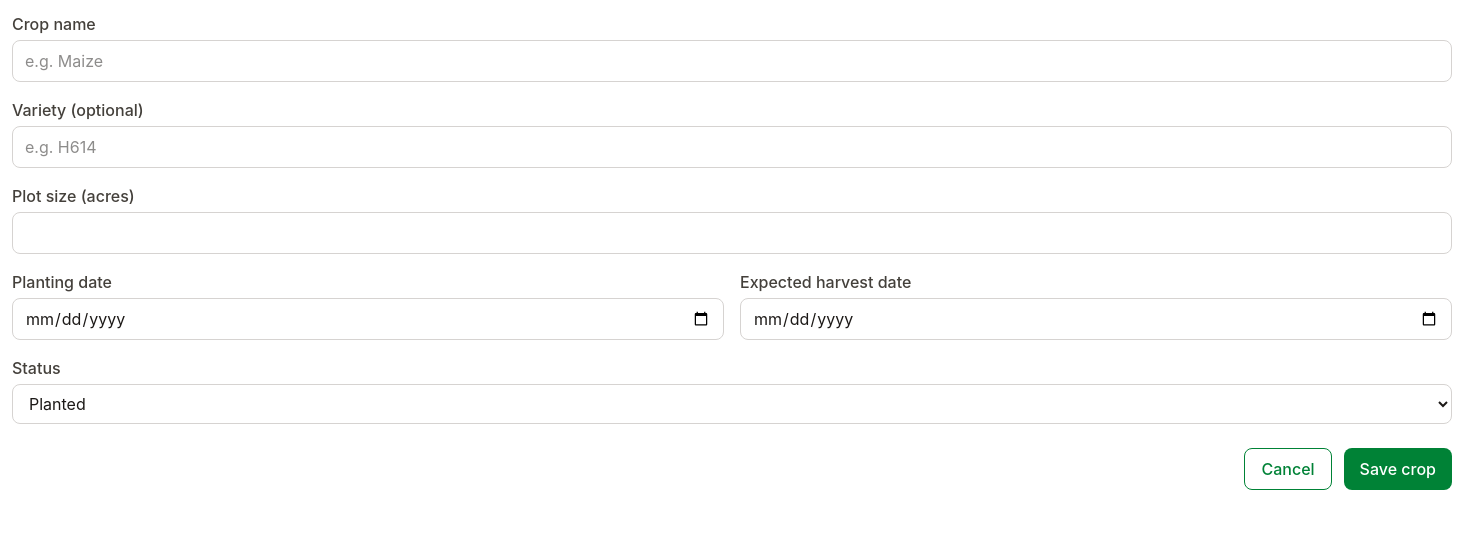
Test: CropForm › shows errors for a plot size of 0 and a harvest date before planting
Type "Maize" into the field labelled "Crop name". click: (732, 61)
box: [12, 40, 1452, 82]
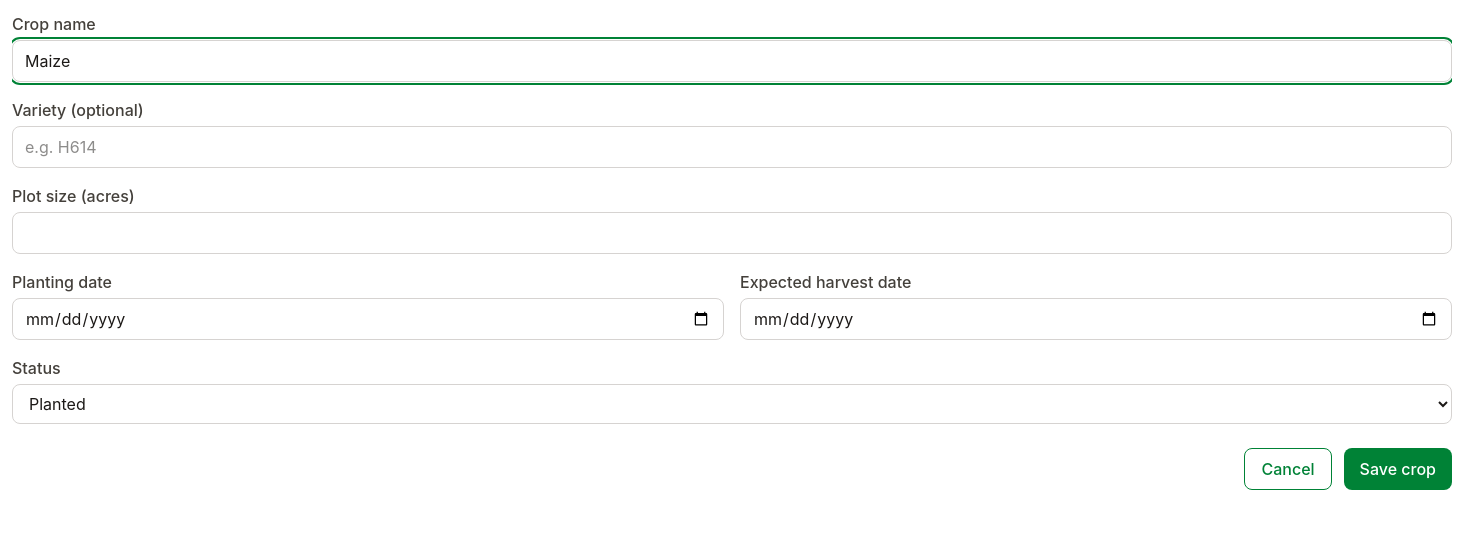
Type "0" into the number field labelled "Plot size (acres)". click: (732, 233)
box: [12, 212, 1452, 254]
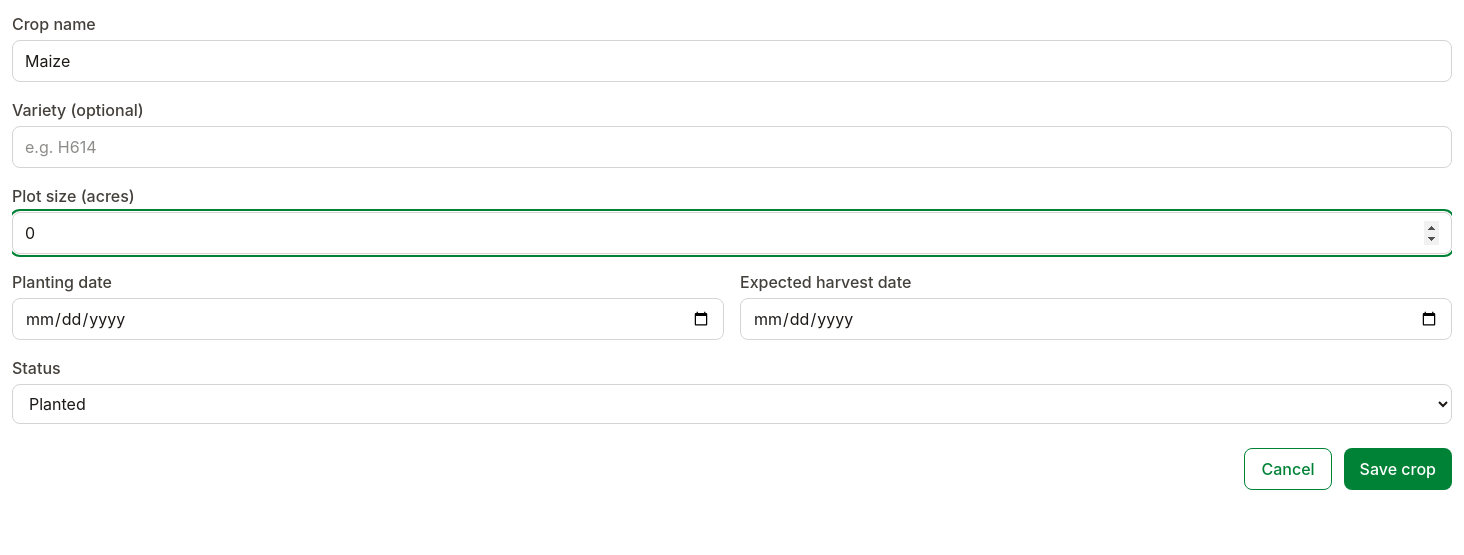
Type "2026-03-01" into the date field labelled "Planting date". click: (368, 319)
box: [12, 298, 724, 340]
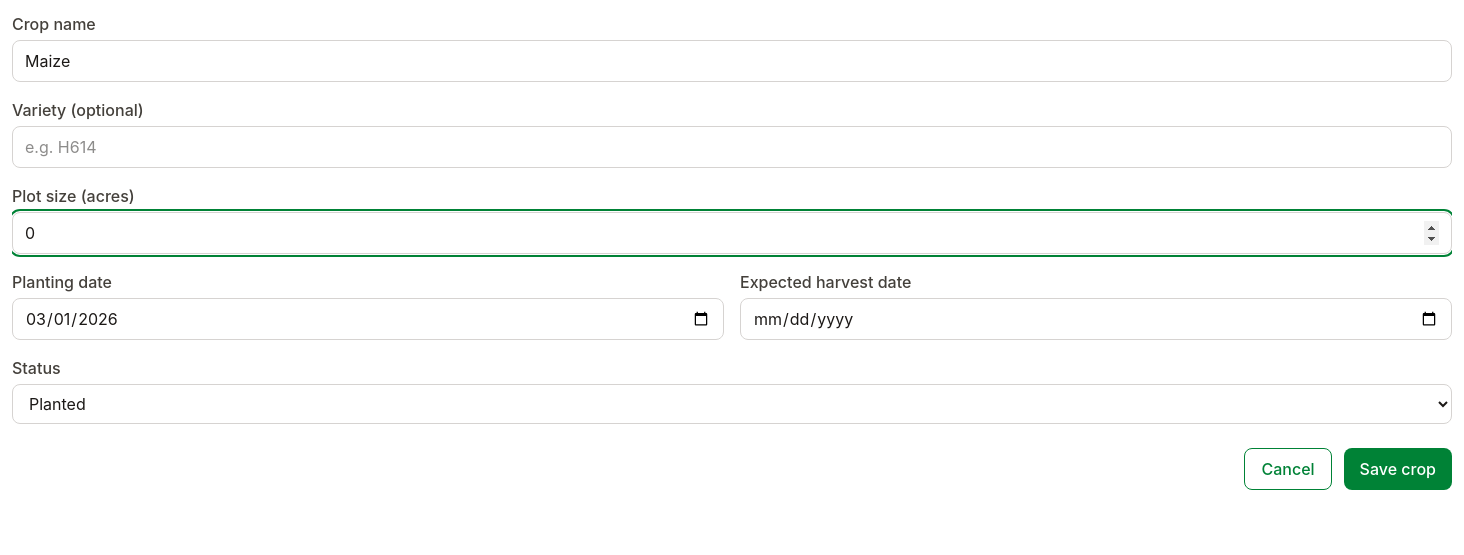
Type "2026-02-01" into the date field labelled "Expected harvest date". click: (1096, 319)
box: [740, 298, 1452, 340]
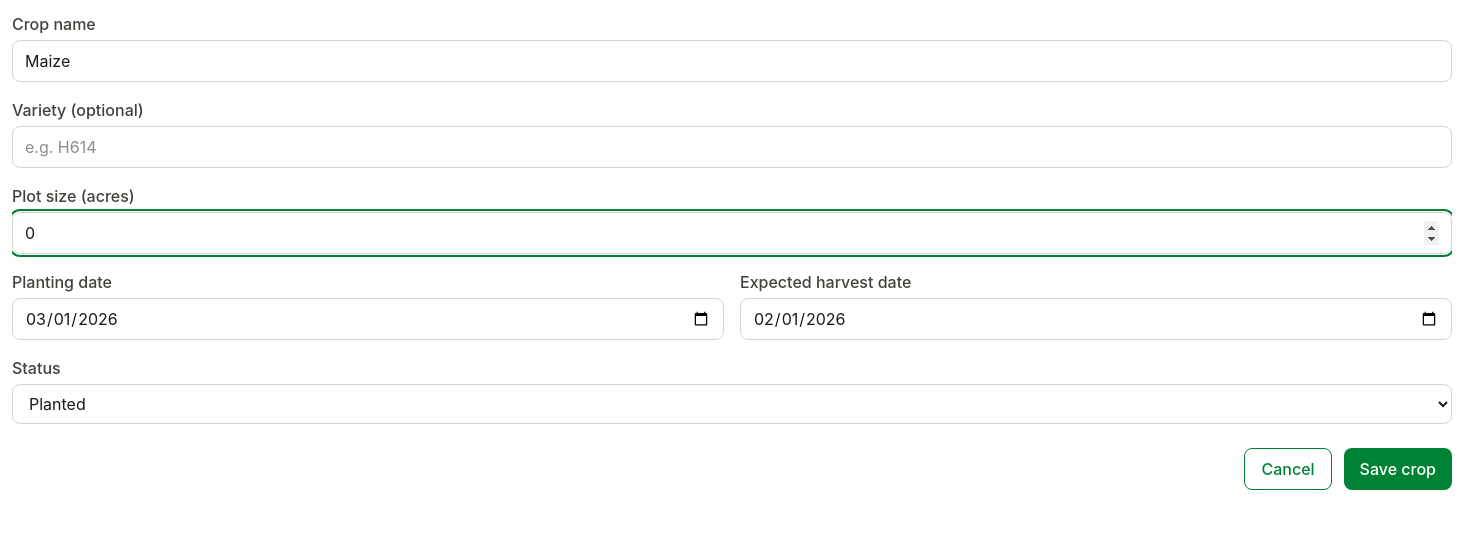
Click the button "Save crop". click: click(1398, 469)
box: [1344, 448, 1452, 490]
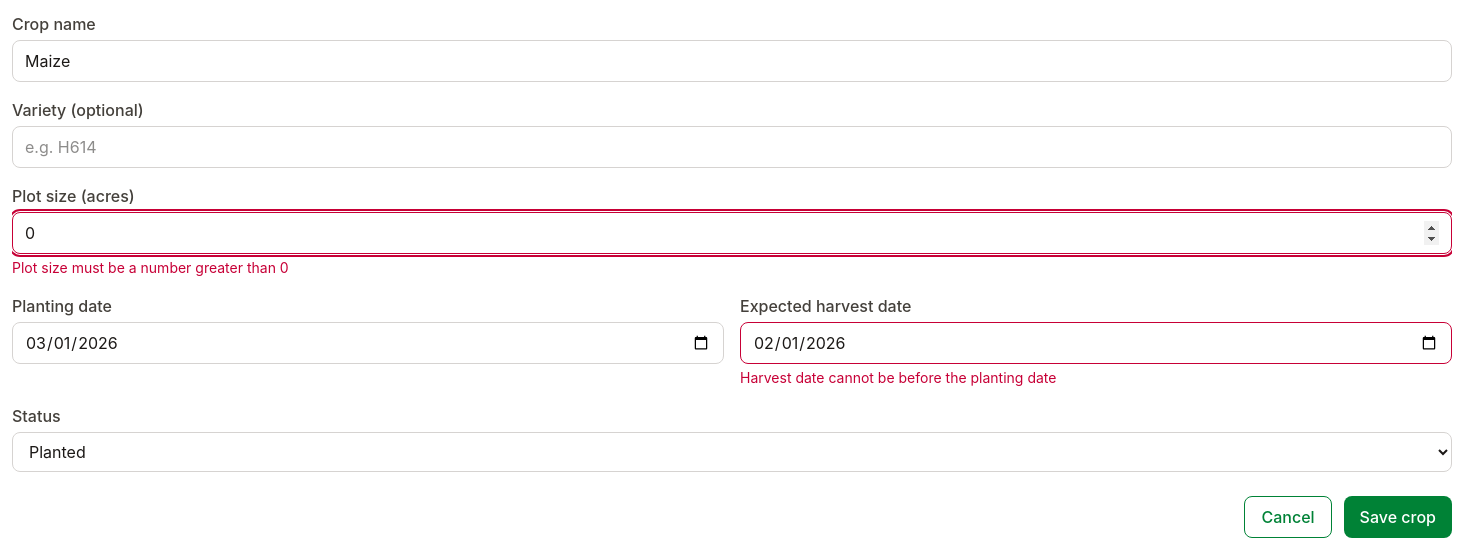
Expected: the text "Plot size must be a number greater than 0" is shown, [12, 259, 289, 276]
Expected: the text "Harvest date cannot be before the planting date" is shown, [740, 369, 1056, 386]
